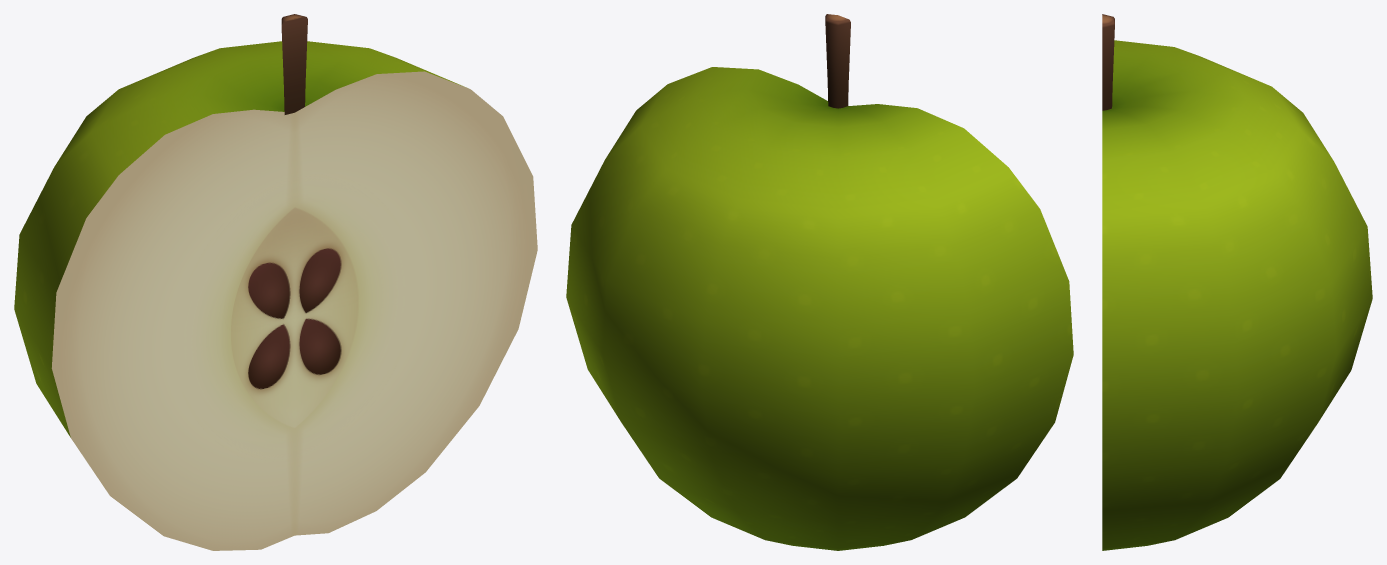
The model's file is Apple_G_Half_Front.fbx.
3 renders of one model, left to right at view 1: azimuth 30°, elevation 25°; view 2: azimuth 150°, elevation 25°; view 3: azimuth 270°, elevation 25°, orthographic. The views are drawn at different scales.
Parts seen in each view (by area): view 1: Apple_G_Half_Front; view 2: Apple_G_Half_Front; view 3: Apple_G_Half_Front.
Boxes of the visible parts, box(x1,y1,x2,y2) form: Apple_G_Half_Front: box(14, 14, 537, 550); Apple_G_Half_Front: box(566, 14, 1073, 550); Apple_G_Half_Front: box(1102, 14, 1372, 550).
Bounding box in the file's own units: 1.66 × 1.71 × 0.8299.
